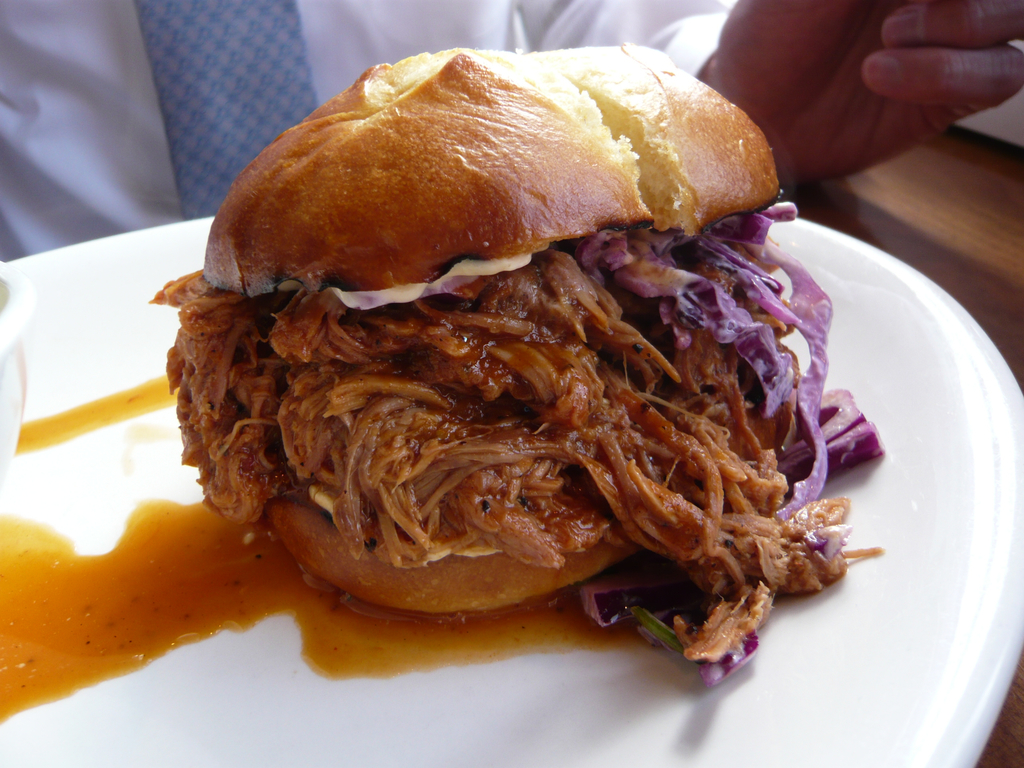Hamburger: (147, 44, 883, 681)
